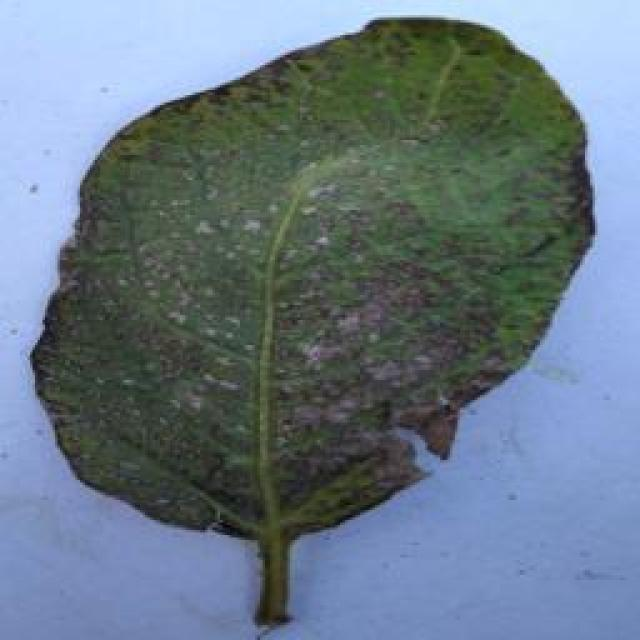Potato_Early_Blight: (36, 22, 592, 538)
